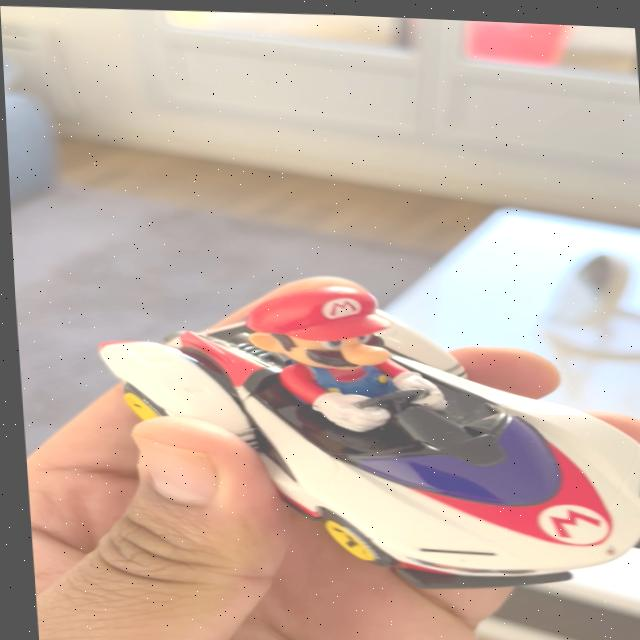mario: (75, 266, 640, 592)
